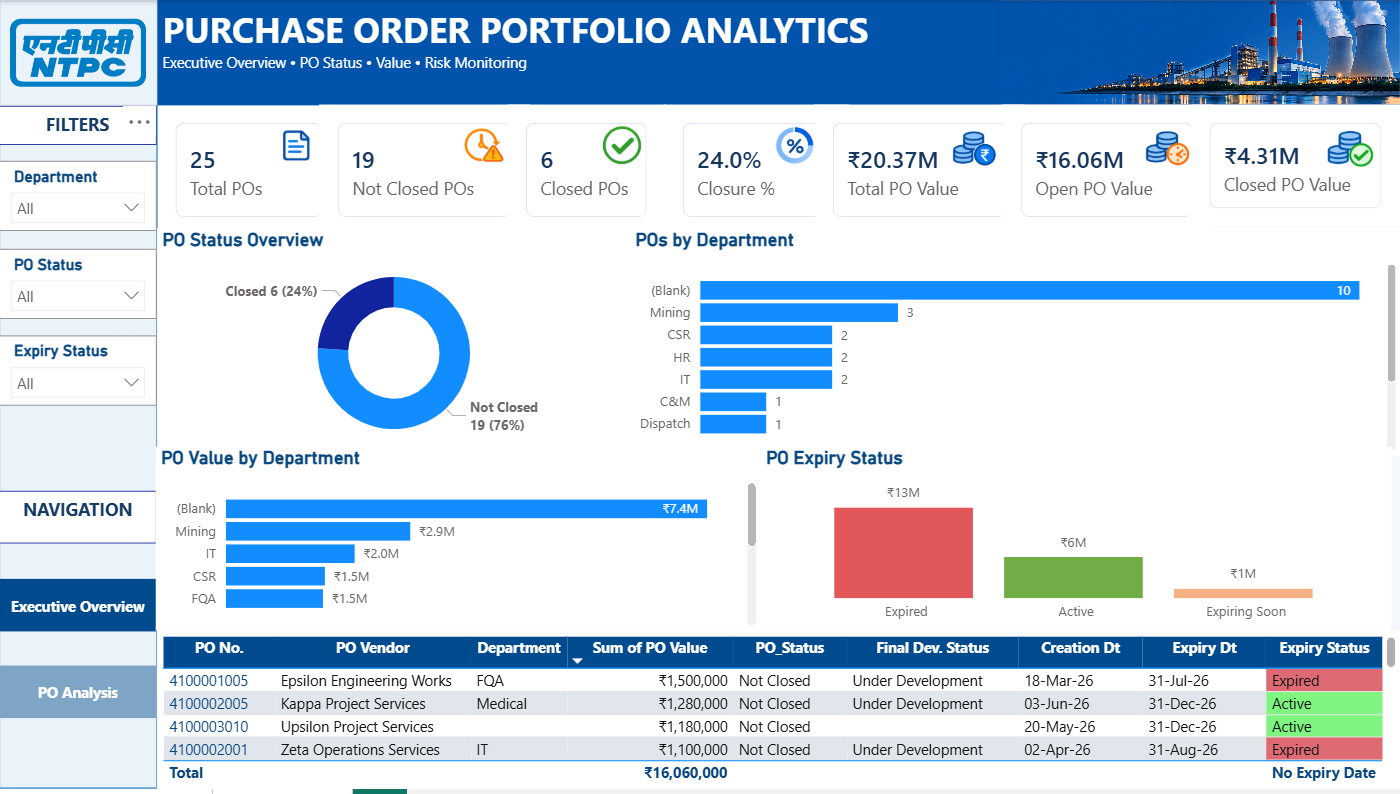

The page's visual inventory and layout, read from the dashboard file:
{"tool":"powerbi","page":{"name":"Executidve Dashboard","canvas":[1280,720],"ordinal":0},"visuals":[{"type":"group","id":"g1","title":"Group 1","box":[144,96,168,120],"z":0},{"type":"image","box":[864,0,416,96],"z":1000},{"type":"shape","box":[144,0,768,96],"z":2000},{"type":"shape","box":[0,0,144.8,720],"z":3000},{"type":"cardVisual","fields":{"Data":["Fact_PO.Total POs"]},"box":[144,96,168,120],"z":4000,"group":"g1"},{"type":"cardVisual","fields":{"Data":["Fact_PO.Not Closed POs"]},"box":[292,96,192,120],"z":4000,"group":"g2"},{"type":"textbox","box":[0,96.1,143.8,35.4],"z":4000},{"type":"cardVisual","fields":{"Data":["Fact_PO.Closure %"]},"box":[608,96,168,120],"z":5000,"group":"g4"},{"type":"donutChart","title":"PO Status Overview","fields":{"Category":["Fact_PO.PO_Status"],"Y":["CountNonNull(Fact_PO.PO No.)"]},"box":[144,208,432,208],"z":5000},{"type":"cardVisual","fields":{"Data":["Fact_PO.Closed POs"]},"box":[464,96,144,120],"z":6000,"group":"g3"},{"type":"tableEx","fields":{"Values":["Fact_PO.PO No.","Fact_PO.PO Vendor","Fact_PO.Department","Sum(Fact_PO.PO Value)","Fact_PO.PO_Status","Fact_PO.Final Dev. Status","Fact_PO.Creation Dt","Fact_PO.Expiry Dt","Fact_PO.Expiry Status"]},"box":[144,576,1136,144],"z":6000},{"type":"textbox","box":[144,0,1128,96],"z":7000},{"type":"cardVisual","fields":{"Data":["Fact_PO.Total PO Value"]},"box":[744,96,192,120],"z":7000,"group":"g5"},{"type":"cardVisual","fields":{"Data":["Fact_PO.Open PO Value"]},"box":[916,96,192,120],"z":8000,"group":"g6"},{"type":"slicer","fields":{"Values":["Fact_PO.Department"]},"box":[0,147.1,144,64],"z":8000},{"type":"slicer","fields":{"Values":["Fact_PO.PO_Status"]},"box":[0,226.8,144,64],"z":9000},{"type":"slicer","fields":{"Values":["Fact_PO.Expiry Status Column"]},"box":[0,306.5,144,64],"z":10000},{"type":"image","box":[0,0,144,96],"z":11000},{"type":"textbox","box":[0,448,144,48],"z":12000},{"type":"actionButton","box":[0,528,144,48],"z":13000},{"type":"cardVisual","fields":{"Data":["Fact_PO.Closed PO Value"]},"box":[1088,96,192,112],"z":14000,"group":"g7"},{"type":"actionButton","box":[0,608,144,48],"z":14000},{"type":"group","id":"g2","title":"Group 2","box":[292,96,192,120],"z":16000},{"type":"group","id":"g3","title":"Group 3","box":[464,96,144,120],"z":17000},{"type":"group","id":"g4","title":"Group 4","box":[608,96,176,112],"z":18000},{"type":"group","id":"g5","title":"Group 5","box":[744,96,192,120],"z":19000},{"type":"group","id":"g6","title":"Group 6","box":[916,96,192,120],"z":20000},{"type":"group","id":"g7","title":"Group 7","box":[1088,96,192,112],"z":21000},{"type":"image","box":[419.9,113.6,43,38.5],"z":21000,"group":"g2"},{"type":"image","box":[548.4,113.6,41.2,38.5],"z":22000,"group":"g3"},{"type":"image","box":[251.1,114,40.7,38],"z":22000,"group":"g1"},{"type":"clusteredBarChart","title":"POs by Department","fields":{"Category":["Fact_PO.Department"],"Y":["CountNonNull(Fact_PO.PO No.)"]},"box":[576,208,704,208],"z":22000},{"type":"image","box":[707.1,113.6,39.8,38.5],"z":23000,"group":"g4"},{"type":"clusteredBarChart","title":"PO Value by Department","fields":{"Category":["Fact_PO.Department"],"Y":["Sum(Fact_PO.PO Value)"]},"box":[143.5,408,553.1,167.7],"z":23000},{"type":"image","box":[863.9,114.1,52.4,41.4],"z":24000,"group":"g5"},{"type":"clusteredColumnChart","title":"PO Expiry Status","fields":{"Category":["Fact_PO.Expiry Status Column"],"Y":["Sum(Fact_PO.PO Value)"]},"box":[696,408,576,168],"z":24000},{"type":"image","box":[1043.7,113.8,44.9,41.7],"z":25000,"group":"g6"},{"type":"image","box":[1206.2,113.7,53.5,42.6],"z":26000,"group":"g7"}]}

Visuals, with their boxes on the page's 1280x720 design canvas (x1, y1, x2, y2). These are canvas units, not pixel positions in the 1400x794 screenshot, which may show the page scaled, cropped or inside an application window:
"Group 1" group: BBox(144, 96, 312, 216)
image: BBox(864, 0, 1280, 96)
shape: BBox(144, 0, 912, 96)
shape: BBox(0, 0, 145, 720)
cardVisual - Fact_PO.Total POs: BBox(144, 96, 312, 216)
cardVisual - Fact_PO.Not Closed POs: BBox(292, 96, 484, 216)
textbox: BBox(0, 96, 144, 132)
cardVisual - Fact_PO.Closure %: BBox(608, 96, 776, 216)
"PO Status Overview" donutChart: BBox(144, 208, 576, 416)
cardVisual - Fact_PO.Closed POs: BBox(464, 96, 608, 216)
tableEx - Fact_PO.PO No. x Fact_PO.PO Vendor: BBox(144, 576, 1280, 720)
textbox: BBox(144, 0, 1272, 96)
cardVisual - Fact_PO.Total PO Value: BBox(744, 96, 936, 216)
cardVisual - Fact_PO.Open PO Value: BBox(916, 96, 1108, 216)
slicer - Fact_PO.Department: BBox(0, 147, 144, 211)
slicer - Fact_PO.PO_Status: BBox(0, 227, 144, 291)
slicer - Fact_PO.Expiry Status Column: BBox(0, 306, 144, 370)
image: BBox(0, 0, 144, 96)
textbox: BBox(0, 448, 144, 496)
actionButton: BBox(0, 528, 144, 576)
cardVisual - Fact_PO.Closed PO Value: BBox(1088, 96, 1280, 208)
actionButton: BBox(0, 608, 144, 656)
"Group 2" group: BBox(292, 96, 484, 216)
"Group 3" group: BBox(464, 96, 608, 216)
"Group 4" group: BBox(608, 96, 784, 208)
"Group 5" group: BBox(744, 96, 936, 216)
"Group 6" group: BBox(916, 96, 1108, 216)
"Group 7" group: BBox(1088, 96, 1280, 208)
image: BBox(420, 114, 463, 152)
image: BBox(548, 114, 590, 152)
image: BBox(251, 114, 292, 152)
"POs by Department" clusteredBarChart: BBox(576, 208, 1280, 416)
image: BBox(707, 114, 747, 152)
"PO Value by Department" clusteredBarChart: BBox(144, 408, 697, 576)
image: BBox(864, 114, 916, 156)
"PO Expiry Status" clusteredColumnChart: BBox(696, 408, 1272, 576)
image: BBox(1044, 114, 1089, 156)
image: BBox(1206, 114, 1260, 156)
